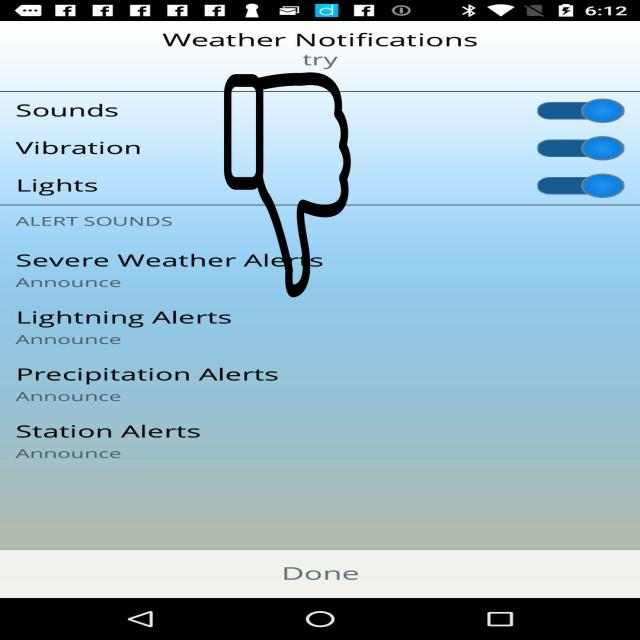obstruction: (222, 72, 353, 298)
